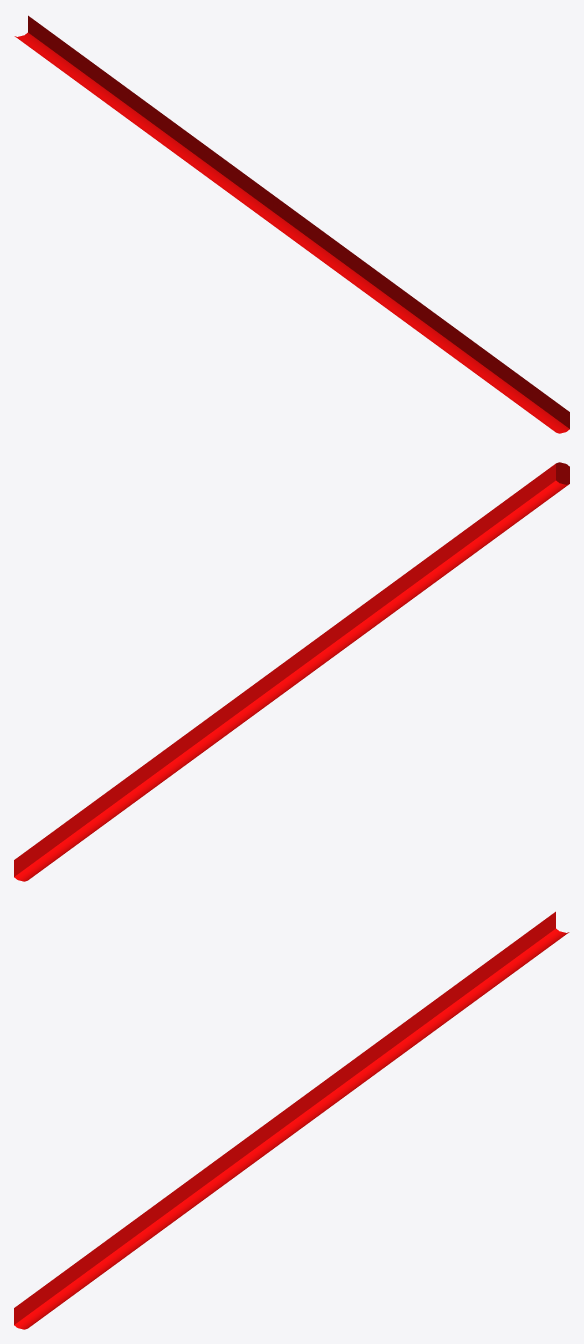
The model's file is JR2000_TAIL.glb.
3 views of the same model, one above another, from view 1: azimuth 30°, elevation 25°; view 2: azimuth 150°, elevation 25°; view 3: azimuth 330°, elevation 25° (orthographic).
Visible parts, largest first — view 1: obj1; view 2: obj1; view 3: obj1.
Part boxes in pixels (bbox=[...]): obj1: bbox=[14, 15, 569, 433]; obj1: bbox=[14, 462, 569, 881]; obj1: bbox=[14, 911, 569, 1329].
Bounding box in the file's own units: 0.2228 × 0.3206 × 15.
1 material, 1 textured.
